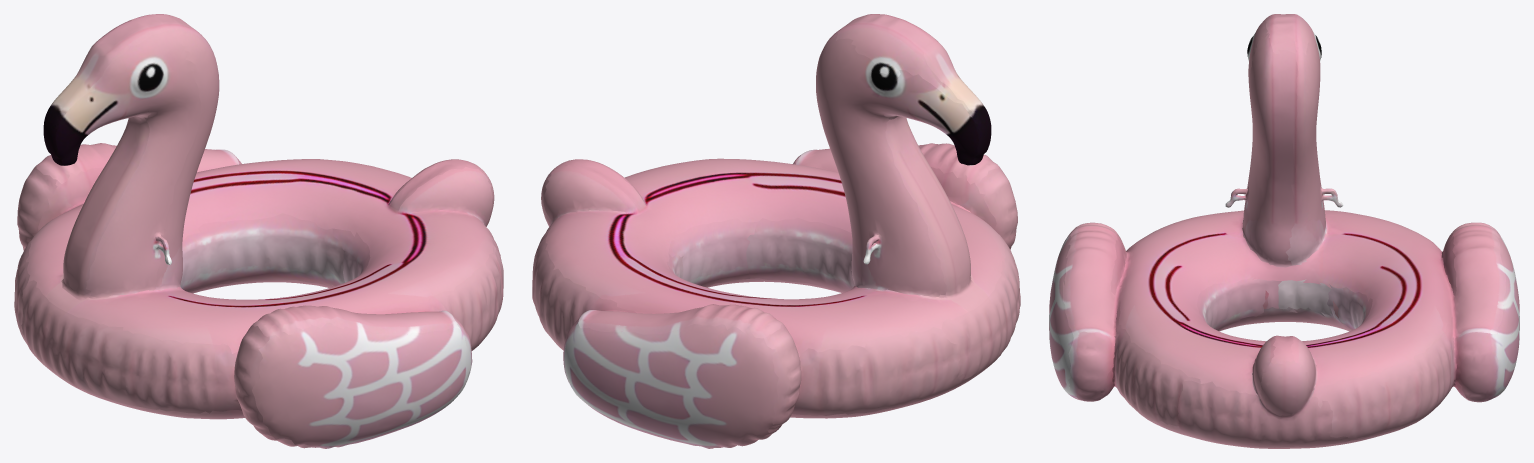
File: flamingo_v2.glb
3 renders of one model, left to right at view 1: azimuth 30°, elevation 25°; view 2: azimuth 150°, elevation 25°; view 3: azimuth 270°, elevation 25°, orthographic. The views are drawn at different scales.
Visible parts, largest first — view 1: tmp4z2sm2ew.ply; view 2: tmp4z2sm2ew.ply; view 3: tmp4z2sm2ew.ply.
Boxes of the visible parts, bbox=[...] form: tmp4z2sm2ew.ply: bbox=[14, 14, 503, 448]; tmp4z2sm2ew.ply: bbox=[532, 14, 1020, 448]; tmp4z2sm2ew.ply: bbox=[1049, 14, 1519, 448].
Bounding box in the file's own units: 0.9514 × 0.7346 × 0.9878.
1 material, 1 textured.
